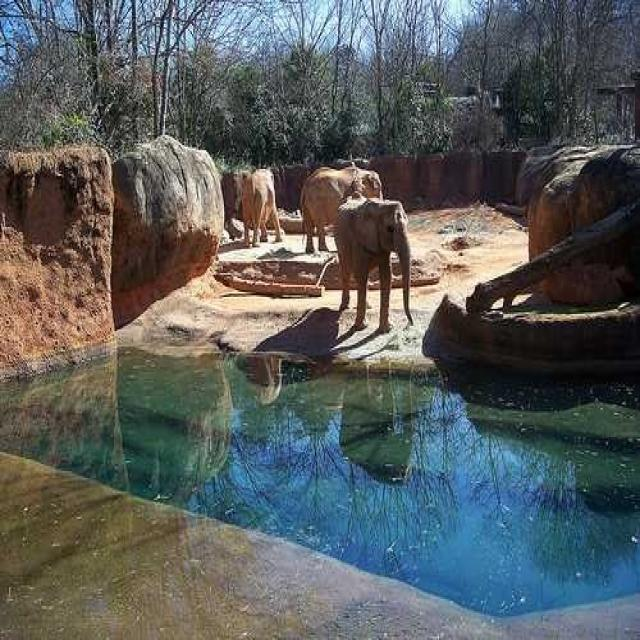Elephant: (334, 193, 414, 333), (298, 162, 383, 253)
